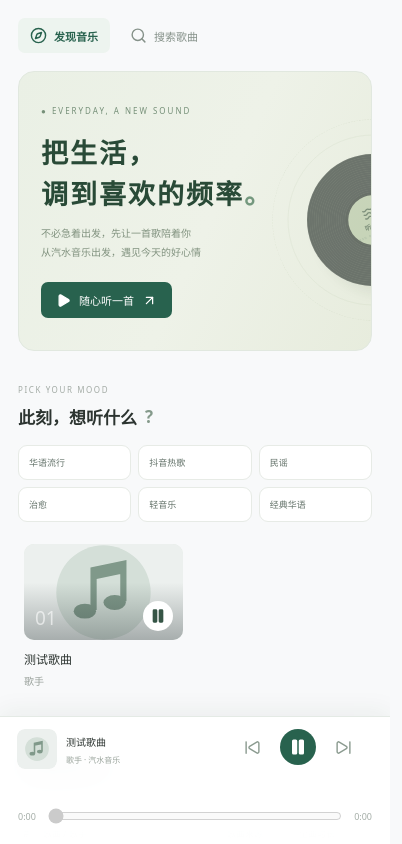
Scenario: uses page navigation without interrupting the player
The width and height of the screenshot is (402, 844).
What coordinates should you click on to do the following:
click the button "搜索歌曲"
I would click on:
 (164, 36)
Its box is [118,18,210,53].
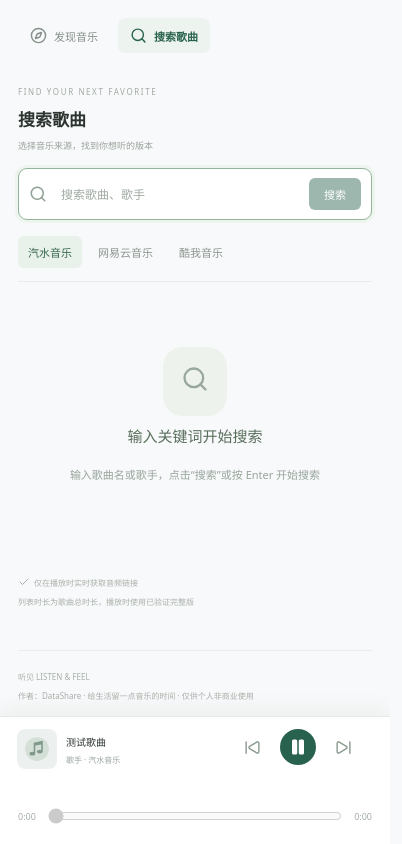
Check: the form with class "search-page-form" is shown, box [18,168,372,220]
What coordinates should you click on to do the following:
click the button "发现音乐"
I would click on:
 (64, 36)
Its box is [18,18,110,53].
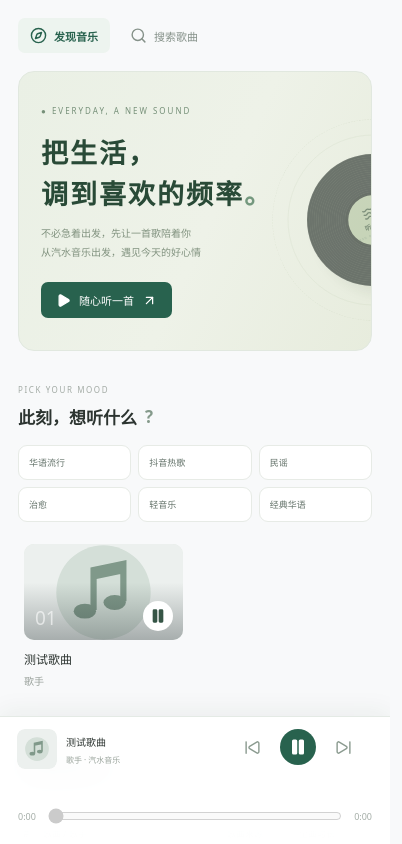
Check: the element with class "hero" is shown, box [18,71,372,351]
Check: the form with class "search-page-form" is gone
